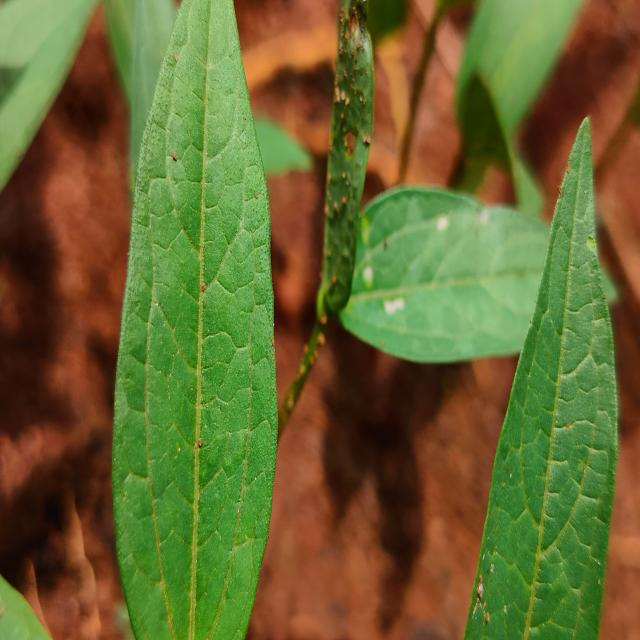Black gram_healthy: (112, 0, 278, 640), (471, 113, 617, 640), (338, 182, 620, 367)
